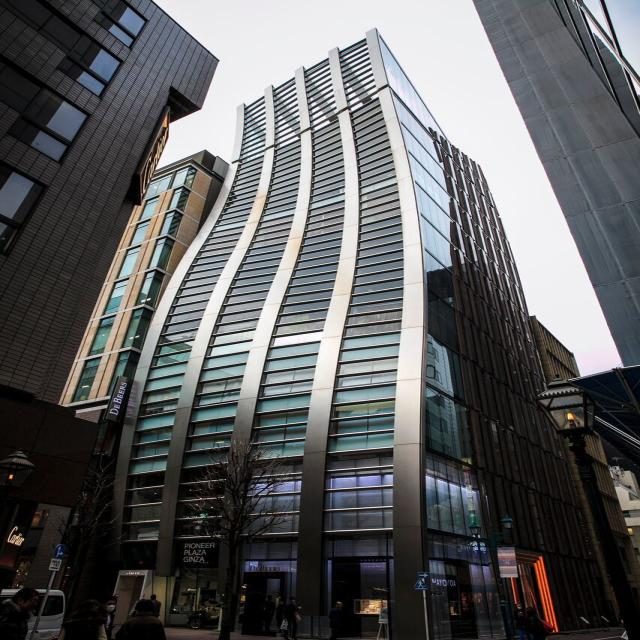body: (112, 598, 170, 640), (0, 587, 40, 640), (59, 599, 109, 640), (523, 607, 556, 639), (8, 557, 36, 589), (98, 600, 118, 640), (284, 595, 302, 639), (262, 594, 277, 634), (104, 594, 119, 630), (143, 593, 162, 618), (514, 603, 526, 640), (354, 598, 384, 610), (275, 599, 285, 629), (332, 600, 344, 610), (524, 606, 533, 610)
